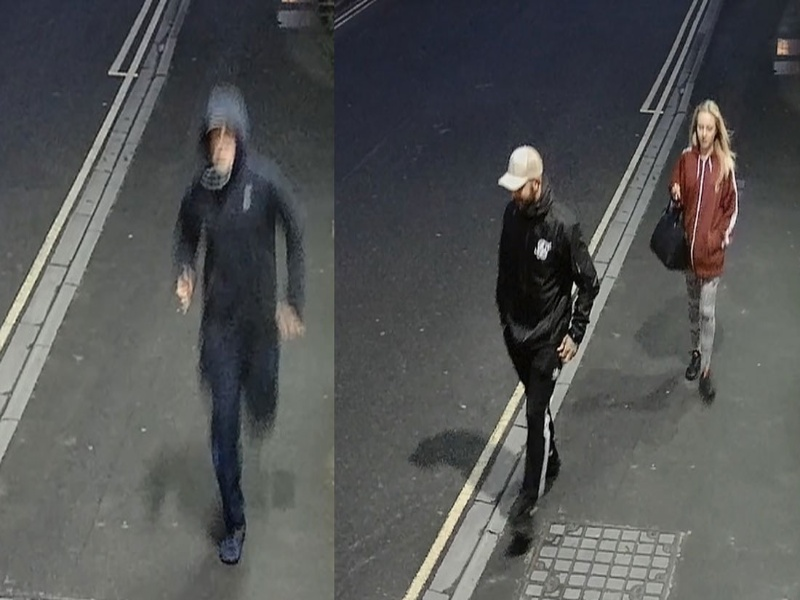person: (165, 82, 314, 578), (487, 138, 609, 555), (646, 97, 746, 405)
